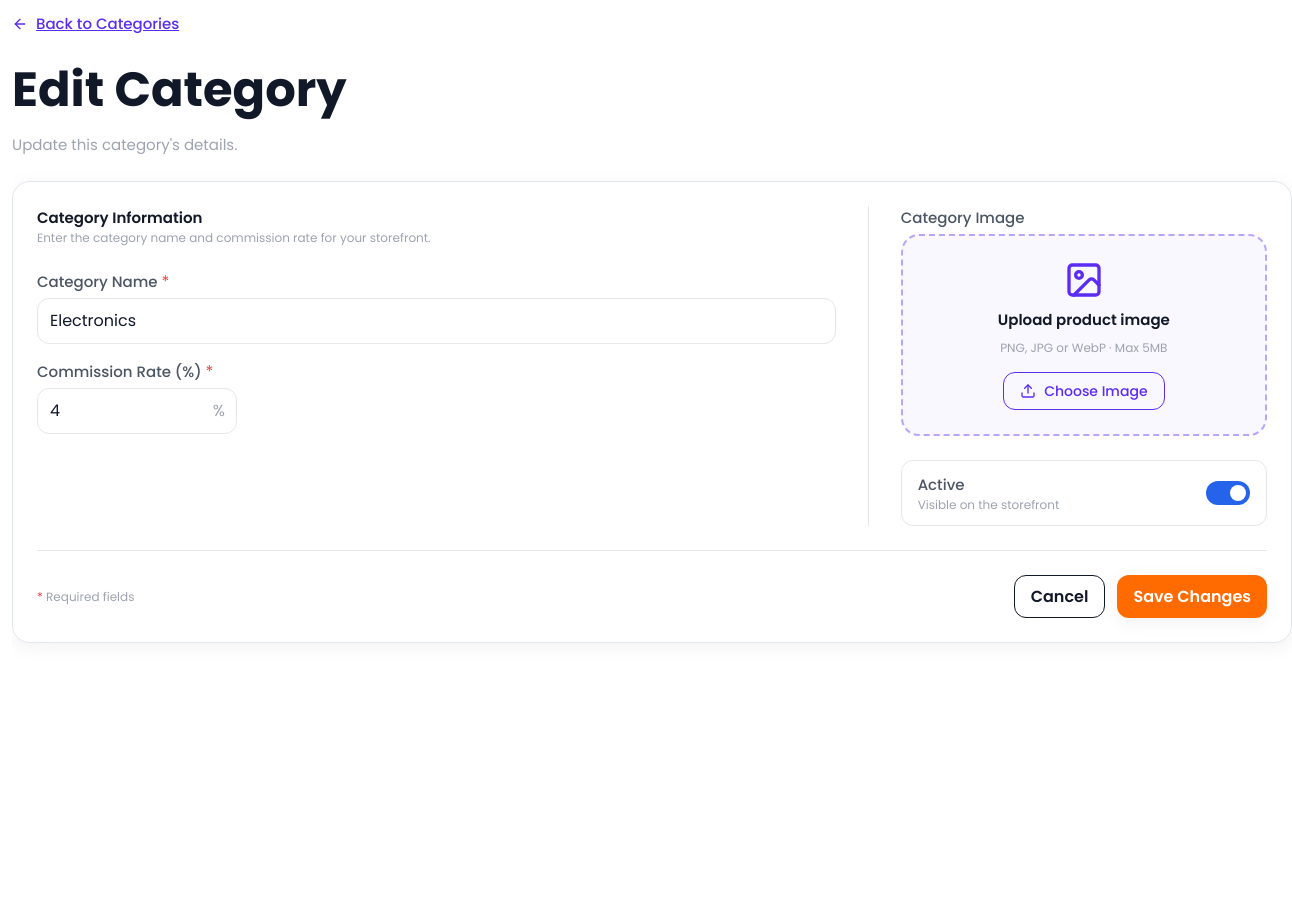
Test: CategoryFormPage › updates a category and navigates back to the list on success
Check: the heading "Edit Category" is shown, box [12,56,347,123]
What coordinates should you click on to do the following:
click the button "Save Changes"
I would click on:
 (1192, 597)
Its box is [1117,575,1267,618].
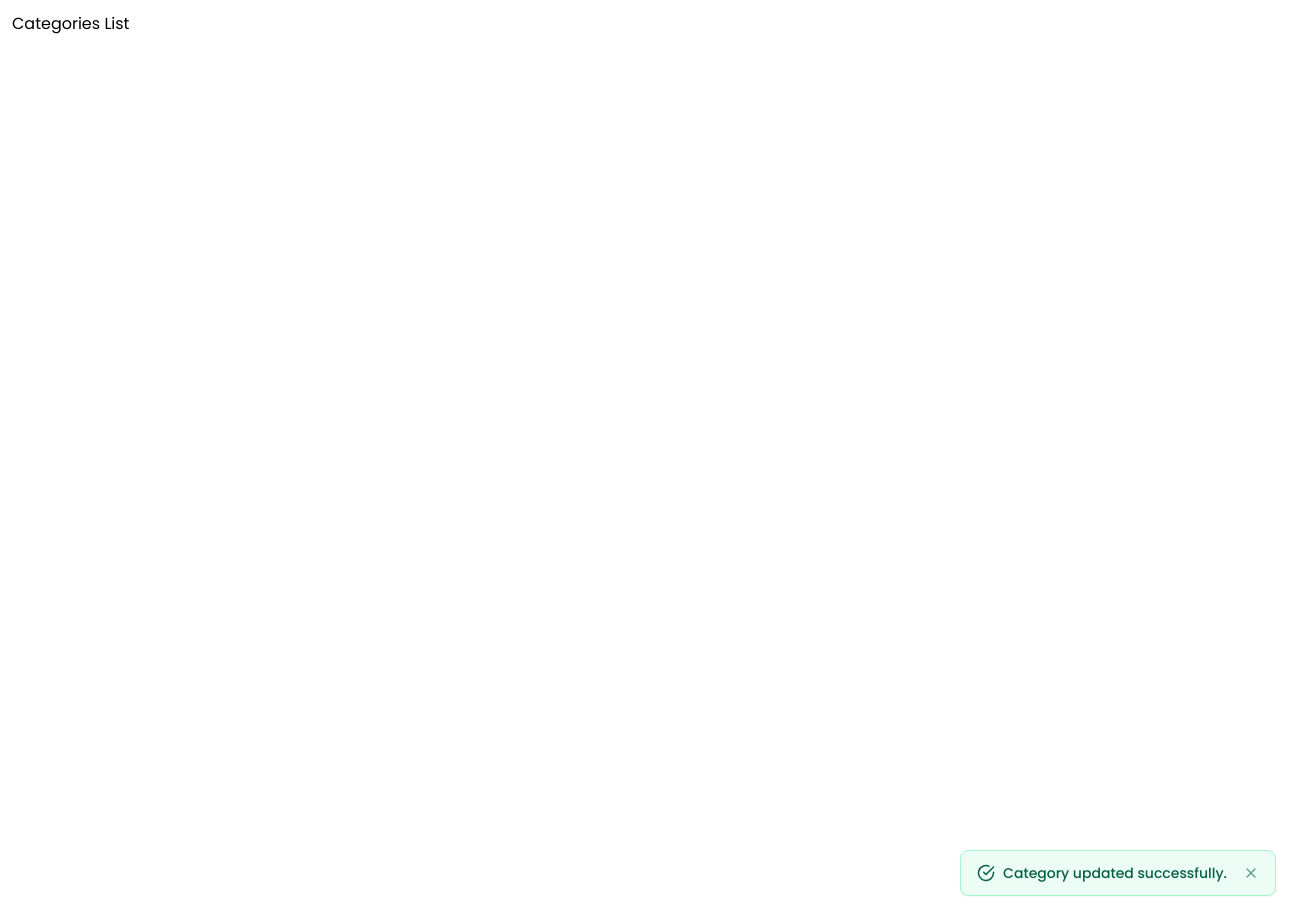
Check: the text "Categories List" is shown, box [12,12,130,35]
